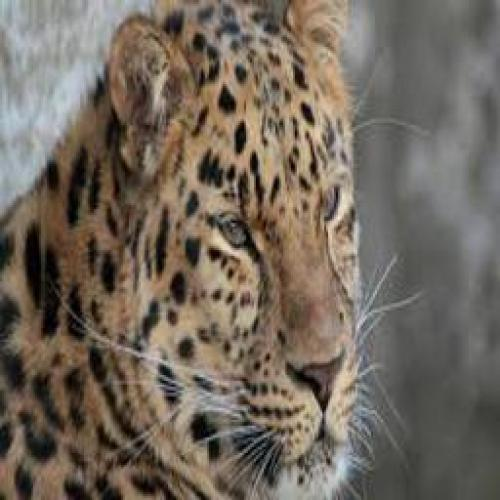amur_leopard-endangered: (87, 3, 369, 486)
